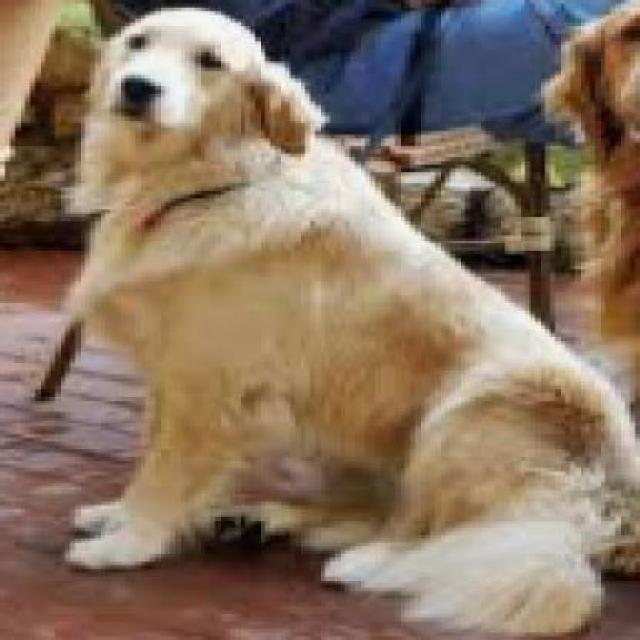Dog: (51, 0, 635, 637)
